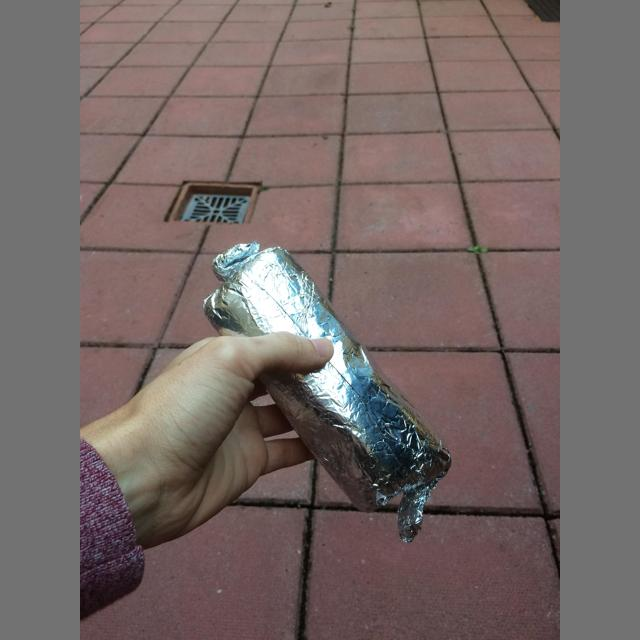litter: (203, 240, 452, 543)
